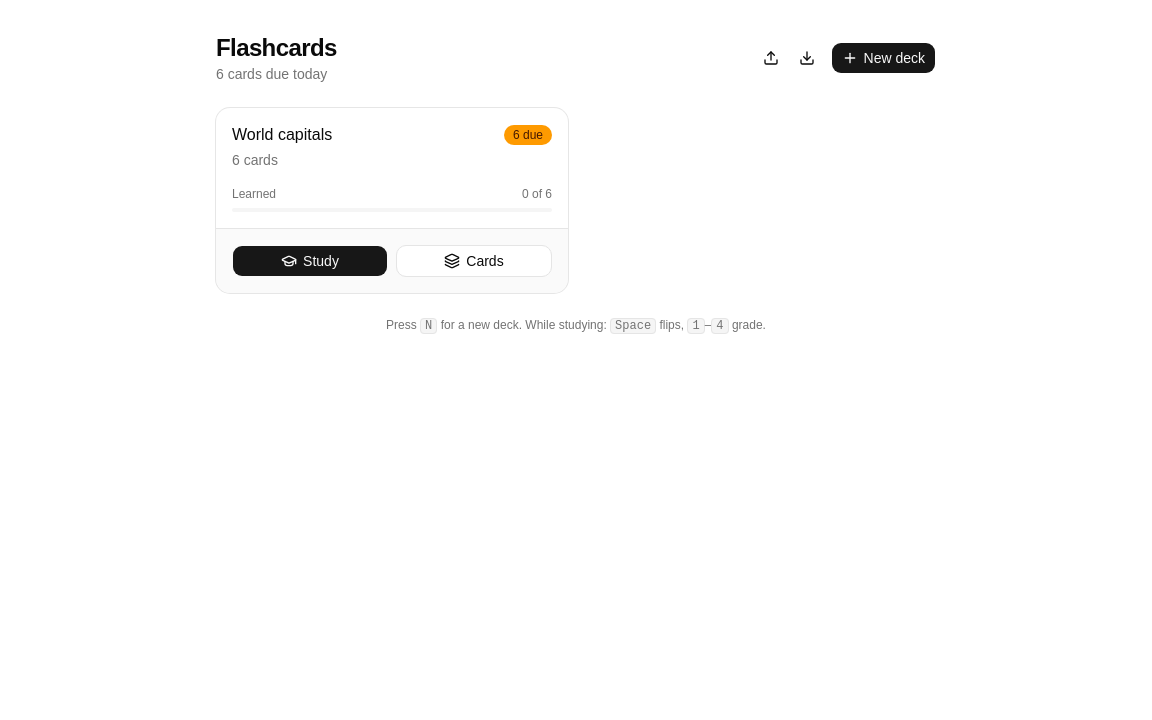
Scenario: decks and cards › creates a deck, refusing a duplicate name
Click the button "New deck" at [883, 58], box [830,42,936,74]
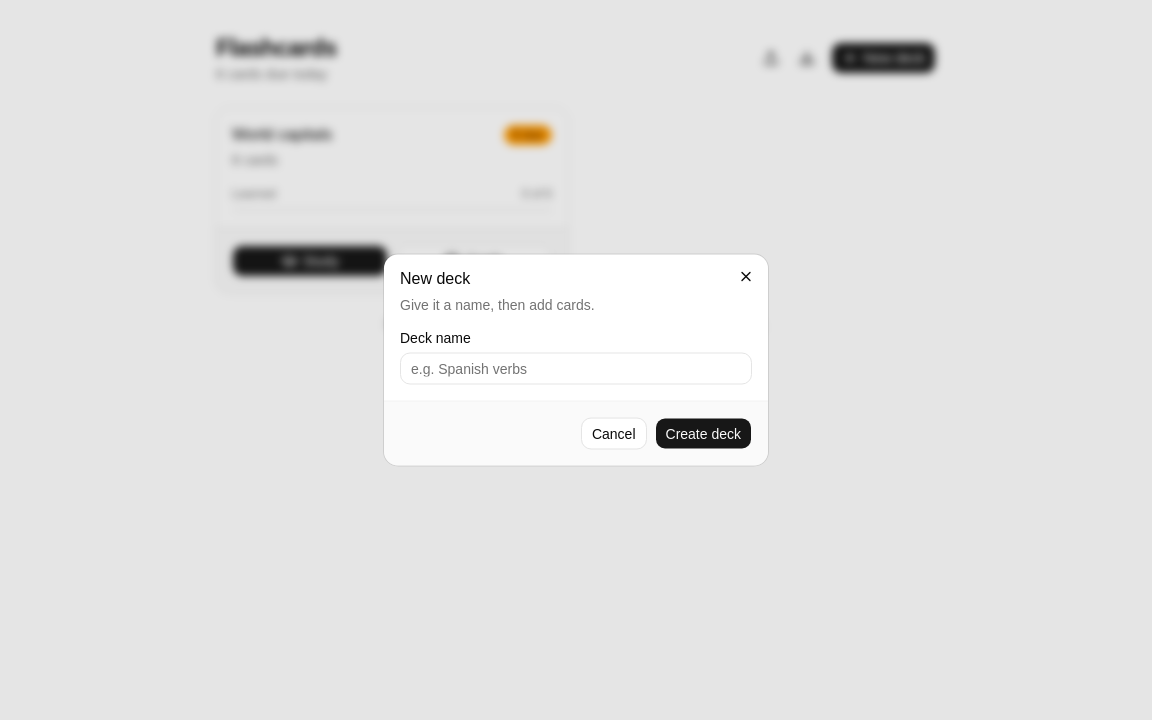
Type "world CAPITALS" into the field labelled "Deck name" at [576, 368], box [400,352,752,384]
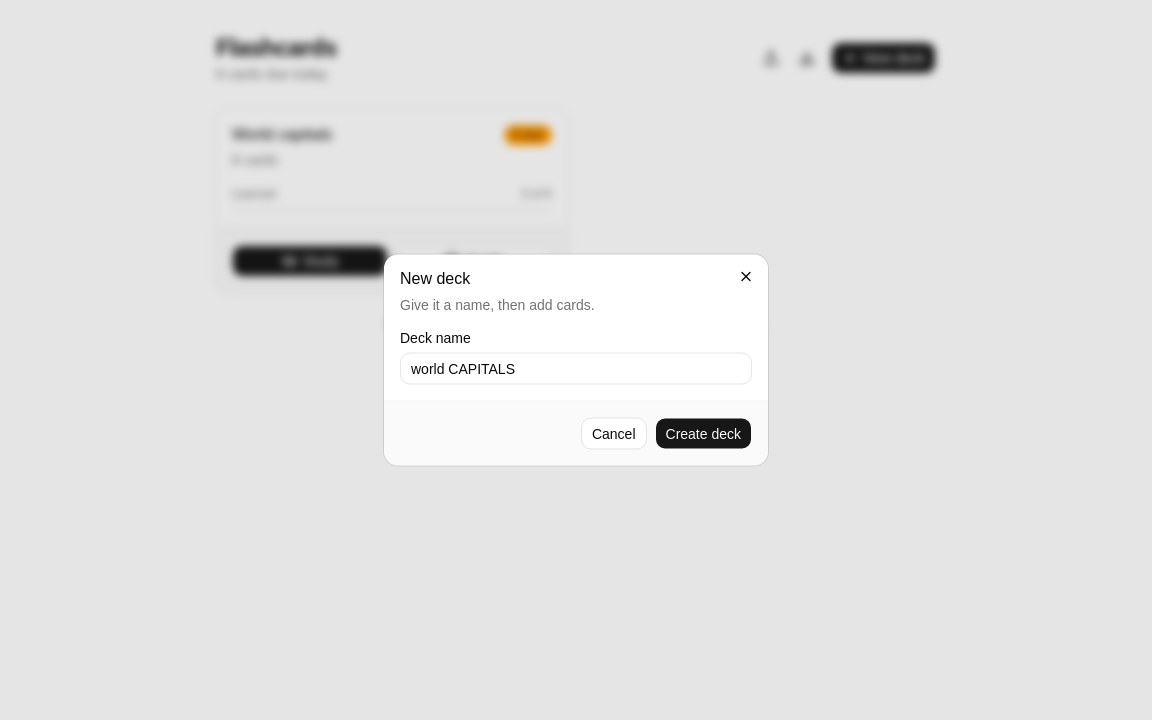
Click the button "Create deck" at [703, 434], box [654,418,752,450]
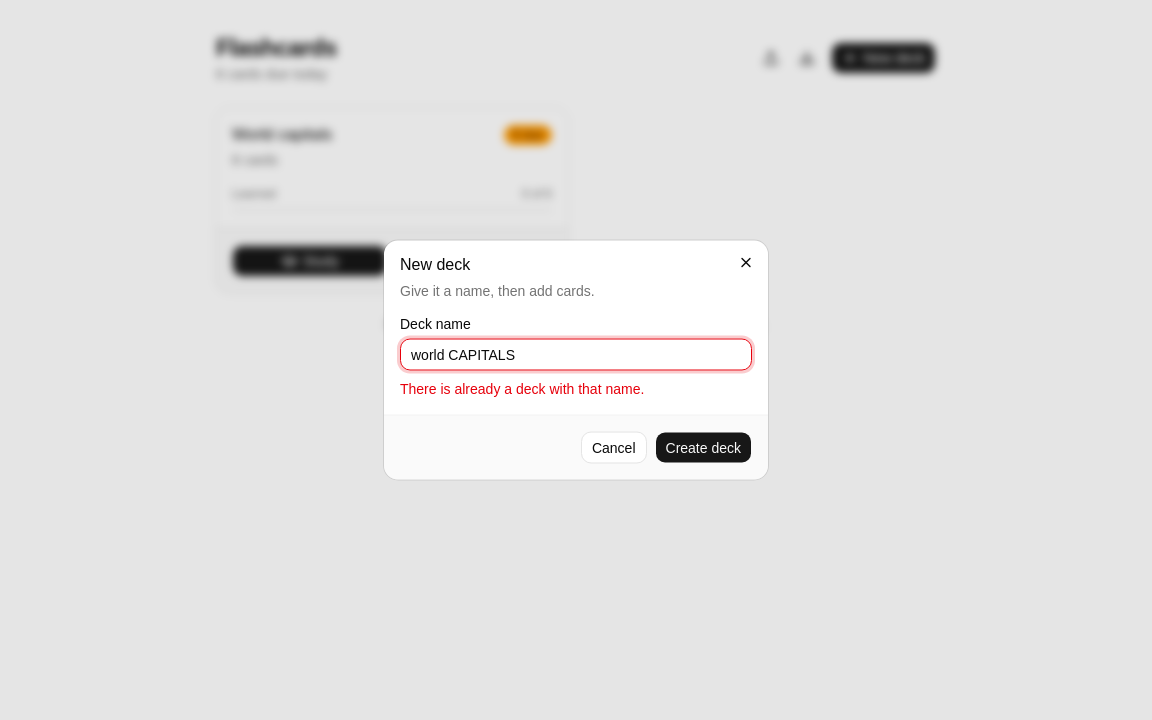
Now the text "There is already a deck with that name." is shown, box [400,380,644,396]
Replace the text in the field labelled "Deck name" with "Spanish" at [576, 354], box [400,338,752,370]
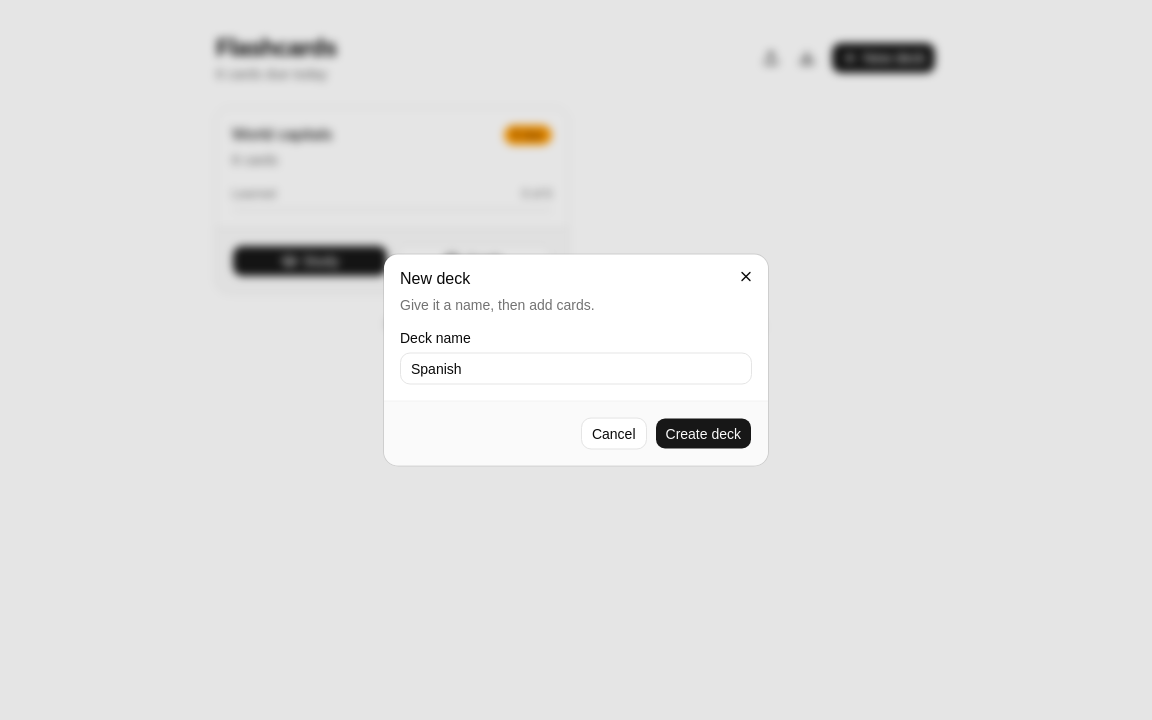
Click the button "Create deck" at [703, 434], box [654,418,752,450]
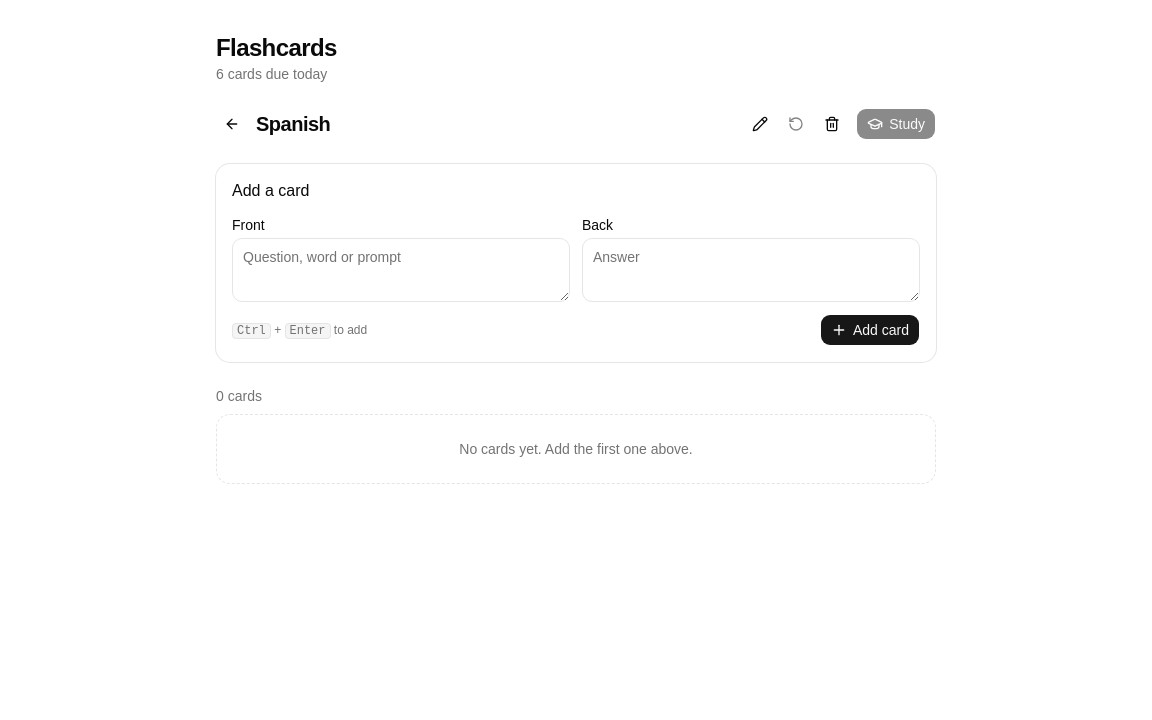
Now the heading "Spanish" is shown, box [256,113,330,135]
Now the text "No cards yet. Add the first one above." is shown, box [216,414,936,484]
